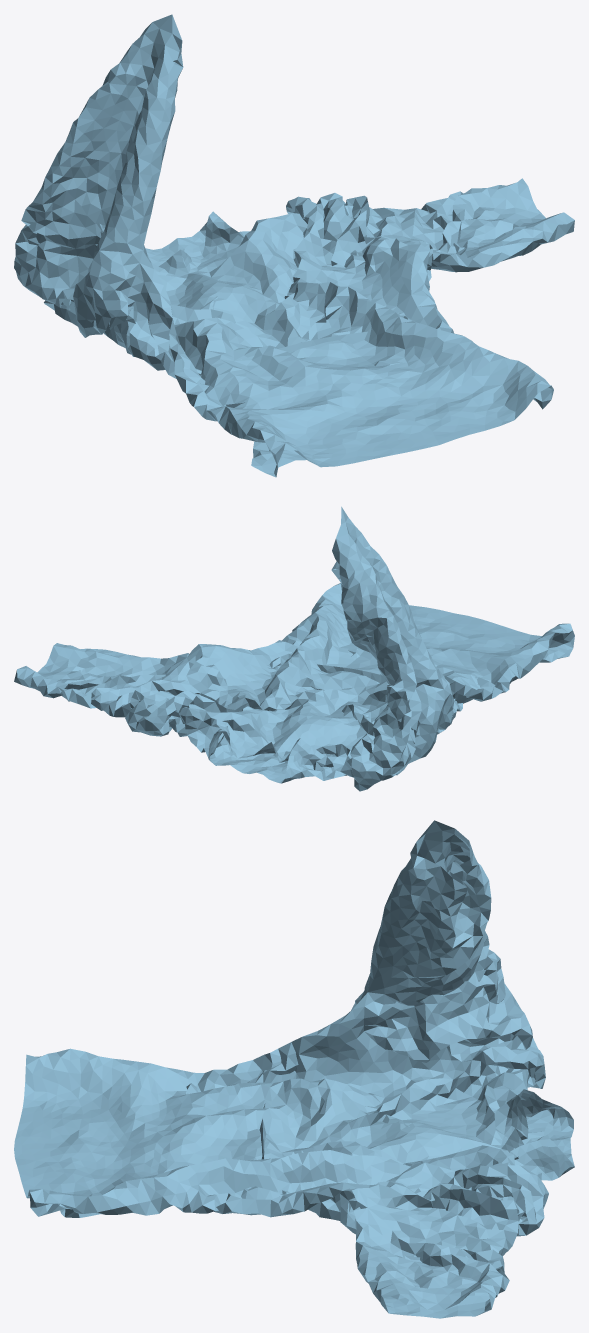
File: frame_12.glb
The picture shows the model from 3 angles, top to bottom: view 1: azimuth 30°, elevation 25°; view 2: azimuth 150°, elevation 25°; view 3: azimuth 270°, elevation 25°; orthographic projection. The views are drawn at different scales.
Visible parts, largest first — view 1: frame_12.obj; view 2: frame_12.obj; view 3: frame_12.obj.
Part boxes in pixels (x1,y1,x2,y2): frame_12.obj: (14, 14, 574, 477); frame_12.obj: (14, 506, 574, 791); frame_12.obj: (14, 820, 574, 1318).
Bounding box in the file's own units: 1.44 × 0.8313 × 1.35.
